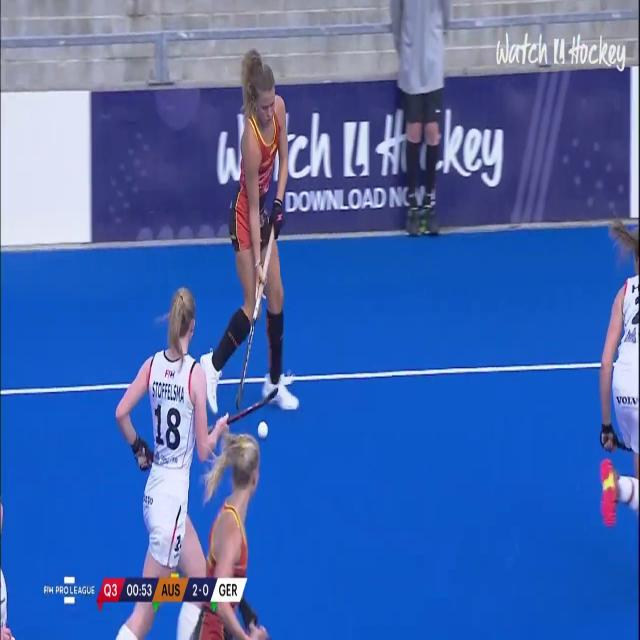ball: (250, 412, 276, 446)
